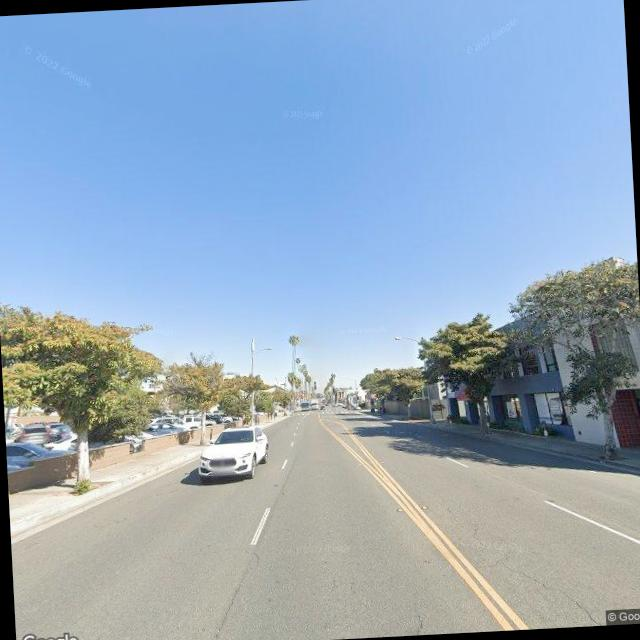pothole: (486, 546, 610, 630), (410, 608, 428, 635)
